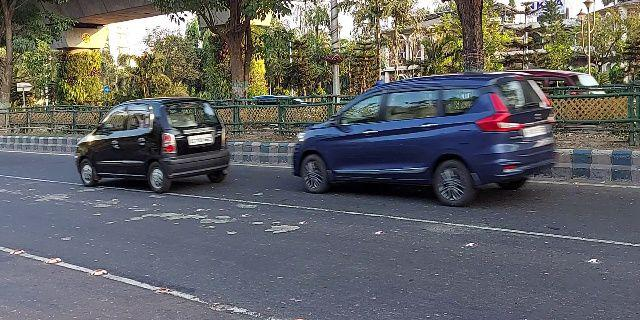Car: (287, 73, 561, 214), (73, 94, 232, 196)
